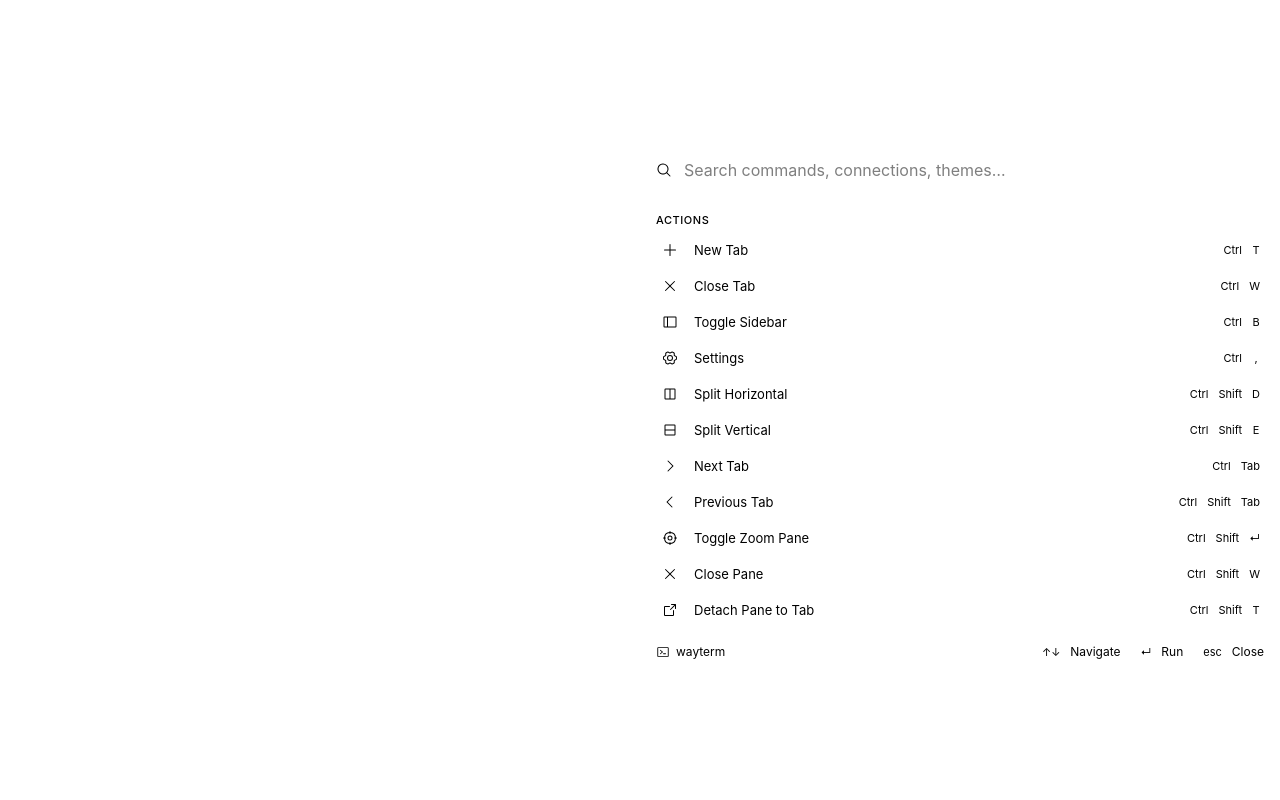
Test: CommandPalette › shows footer hints, and a Back hint only in the theme view
Expected: the element with test id "palette-hints" shows "Navigate", [1070, 644, 1120, 659]
Expected: the element with test id "palette-hints" shows "Run", [1161, 644, 1183, 659]
In the dropdown labelled "Search commands": (974,170) [684, 144, 1264, 196], type "change theme"
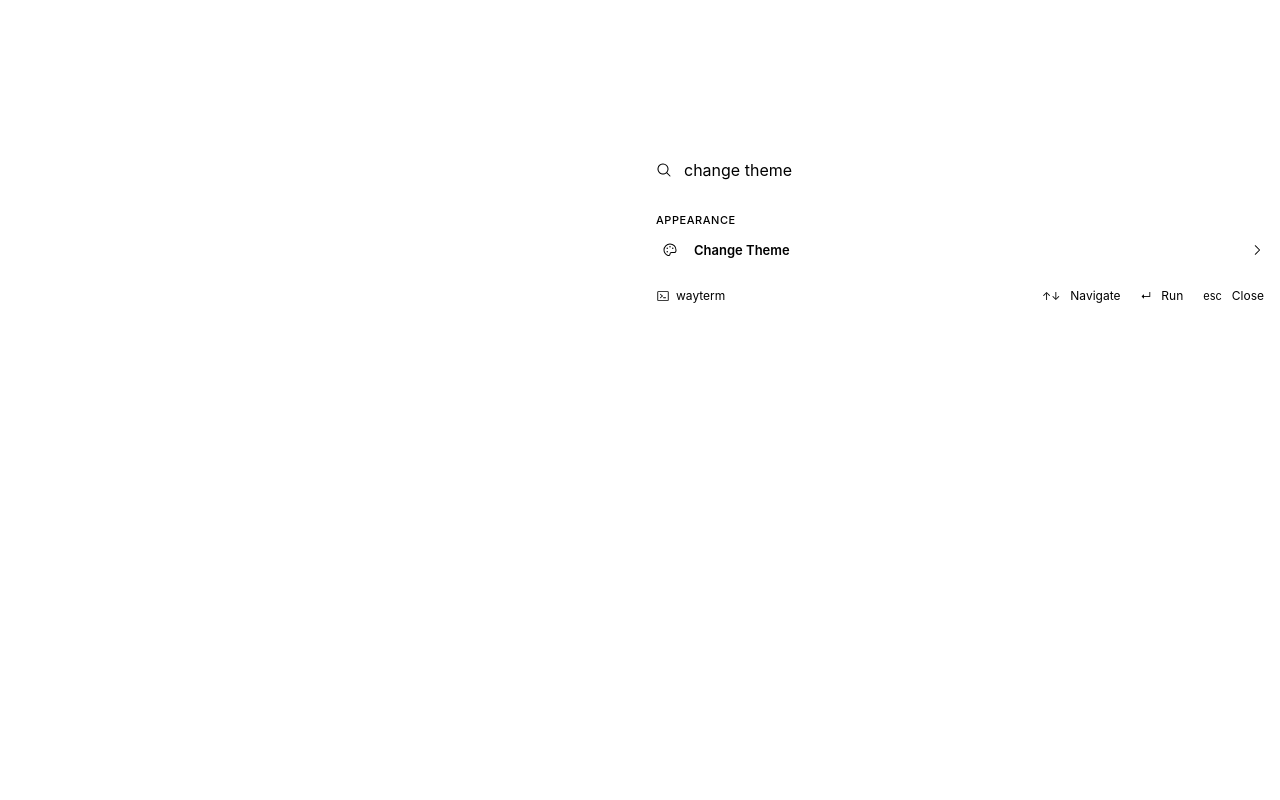
Press Enter
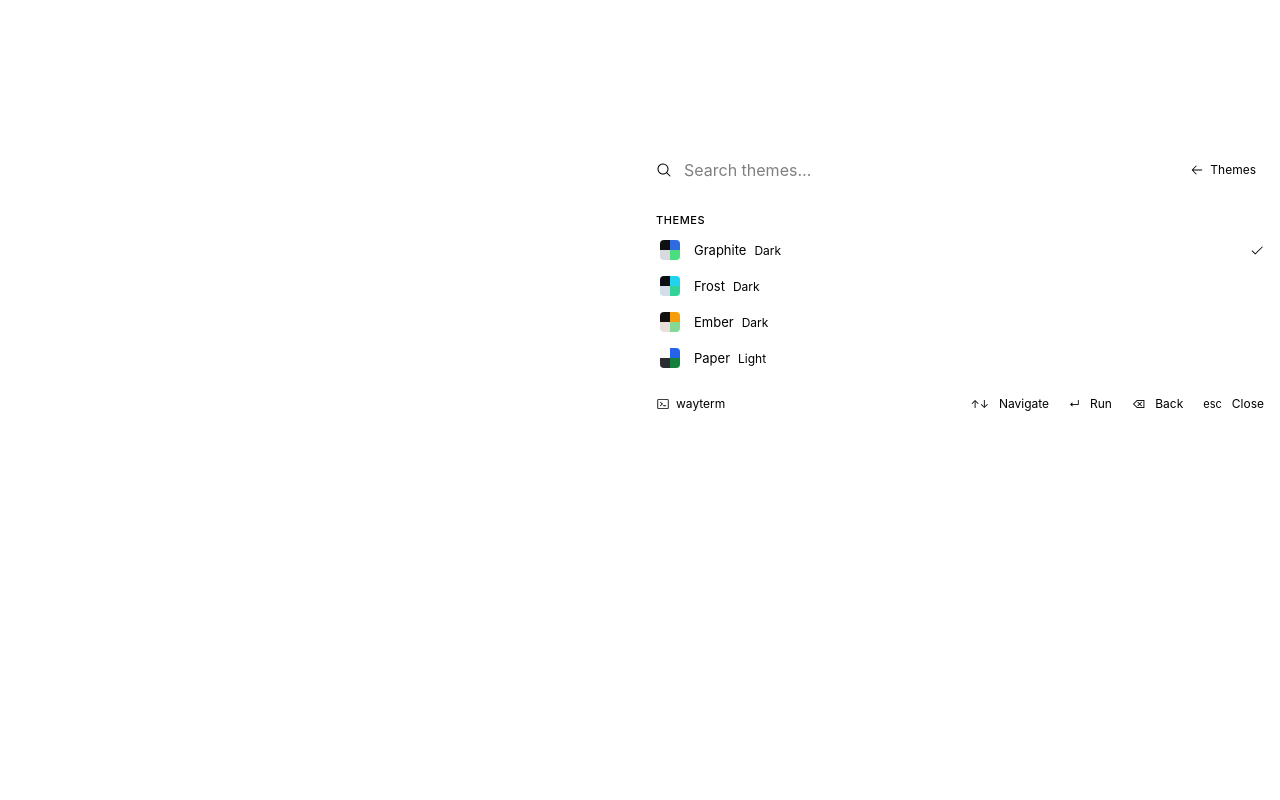
Now the element with test id "palette-hints" shows "Back", box [1155, 396, 1183, 411]
